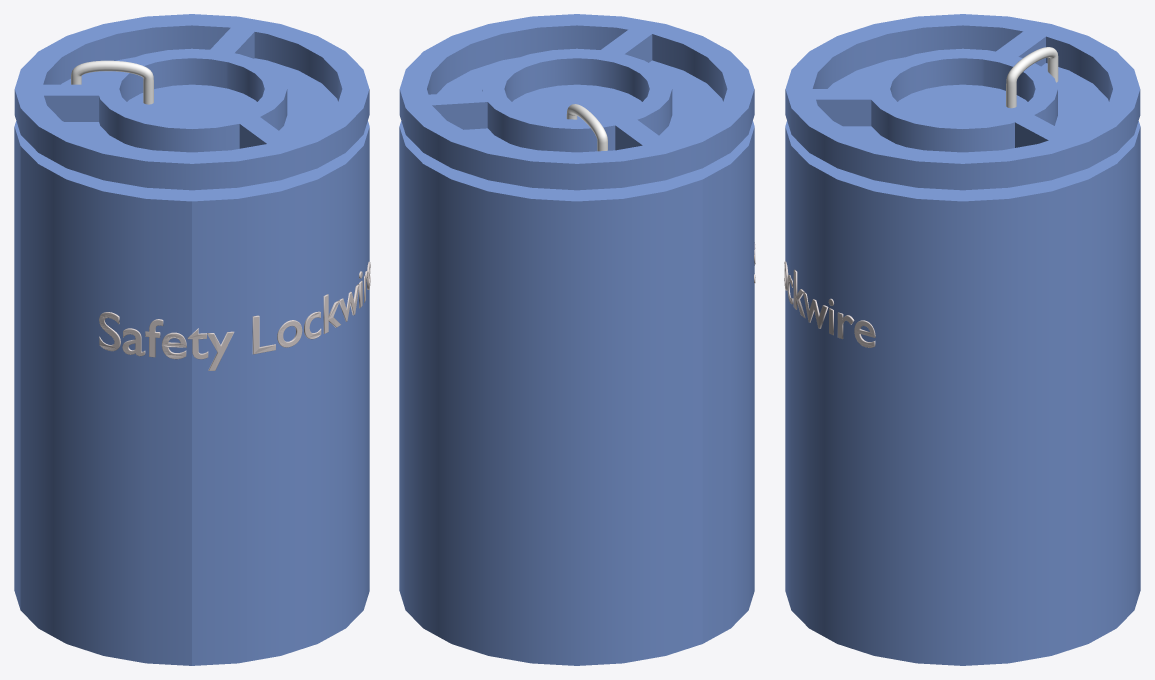
Rendered from lockwire.fbx.
The picture shows the model from 3 angles, left to right: view 1: azimuth 30°, elevation 25°; view 2: azimuth 150°, elevation 25°; view 3: azimuth 270°, elevation 25°; orthographic projection.
Visible parts, largest first — view 1: sealant, Text.006, Cylinder.010; view 2: sealant, Cylinder.010; view 3: sealant, Text.006, Cylinder.010.
Part boxes in pixels (x1,y1,x2,y2): sealant: (14,14,369,665); Text.006: (99,261,370,370); Cylinder.010: (71,60,153,104); sealant: (399,14,754,665); Cylinder.010: (566,104,607,151); sealant: (785,14,1140,665); Text.006: (784,261,875,347); Cylinder.010: (1006,47,1058,108).
Bounding box in the file's own units: 144 × 231 × 144.
